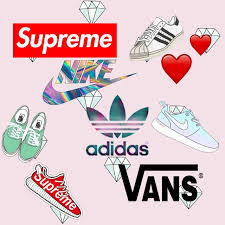adidas: (85, 93, 149, 156)
nike: (41, 72, 138, 105)
vans: (119, 163, 199, 201)
